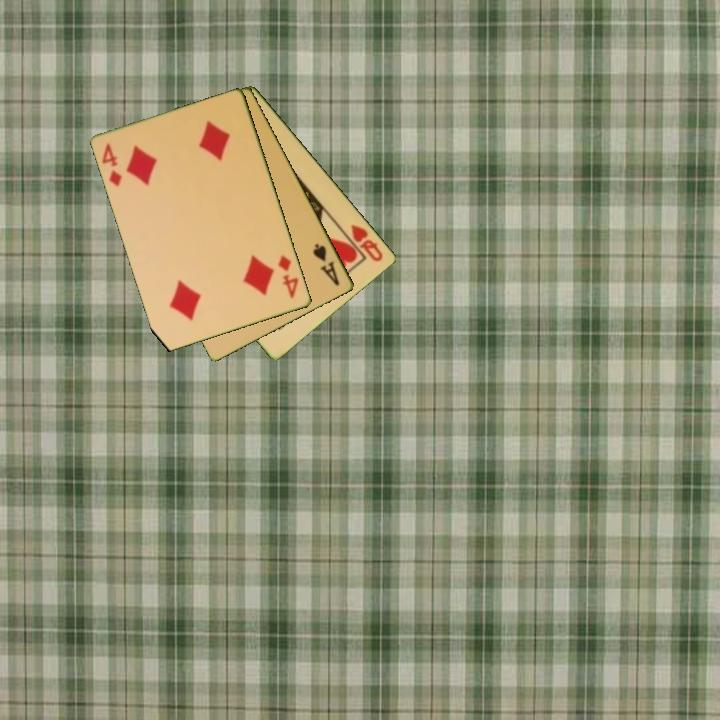4d: (275, 252, 302, 302), (99, 139, 125, 190)
As: (310, 240, 343, 289)
Qh: (348, 221, 386, 265)
